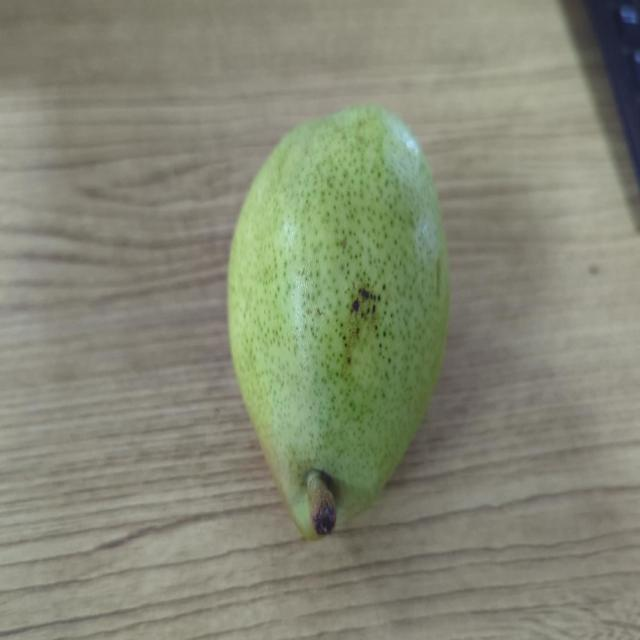Pir: (235, 87, 460, 572)
